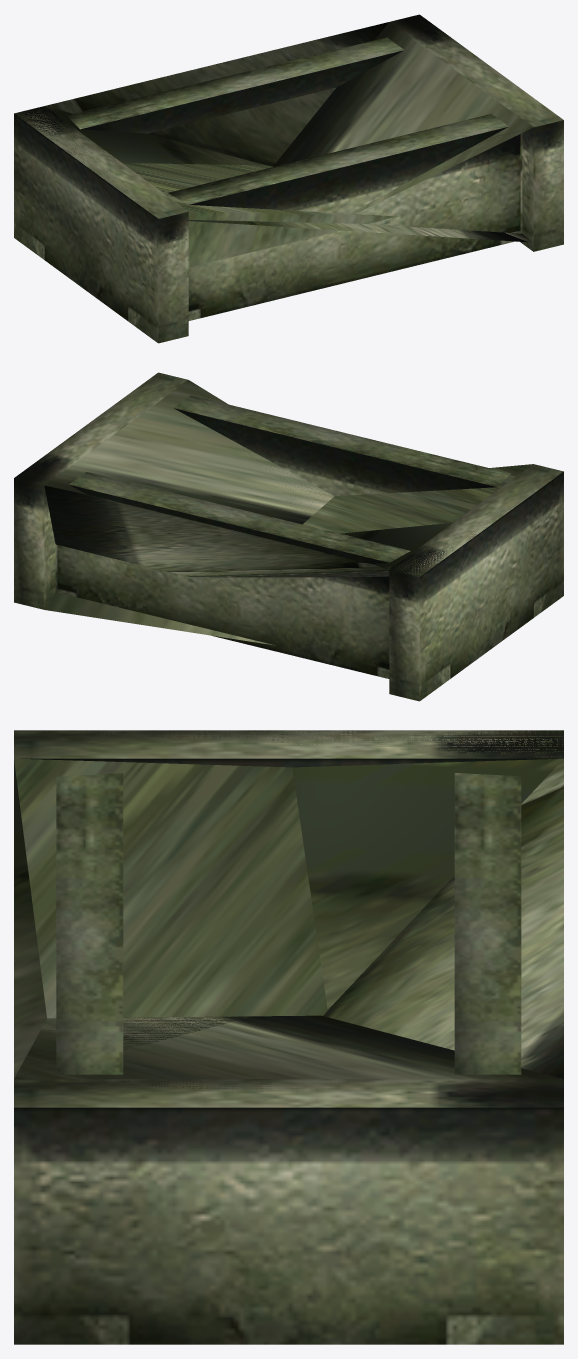
File: stst27.dae
The picture shows the model from 3 angles, top to bottom: view 1: azimuth 30°, elevation 25°; view 2: azimuth 150°, elevation 25°; view 3: azimuth 270°, elevation 25°; orthographic projection. The views are drawn at different scales.
Visible parts, largest first — view 1: crypt00, topp, root1; view 2: crypt00, topp, root1; view 3: crypt00, topp, root1.
Boxes of the visible parts, x1=… form: crypt00: x1=14, y1=14, x2=563, y2=343; topp: x1=15, y1=14, x2=532, y2=267; root1: x1=273, y1=22, x2=533, y2=215; crypt00: x1=14, y1=372, x2=563, y2=701; topp: x1=16, y1=382, x2=558, y2=645; root1: x1=44, y1=380, x2=334, y2=524; crypt00: x1=14, y1=730, x2=563, y2=1344; topp: x1=14, y1=730, x2=563, y2=1107; root1: x1=14, y1=1015, x2=562, y2=1079.
Bounding box in the file's own units: 1.08 × 0.6661 × 0.3168.
Materials: 1 (1 with a texture image).
